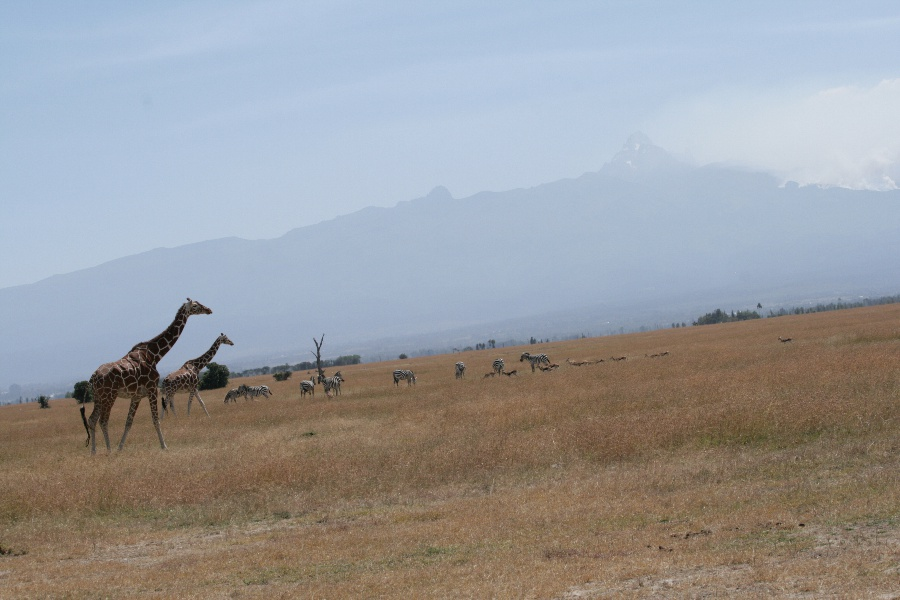giraffe: (72, 289, 215, 465), (154, 326, 237, 423)
